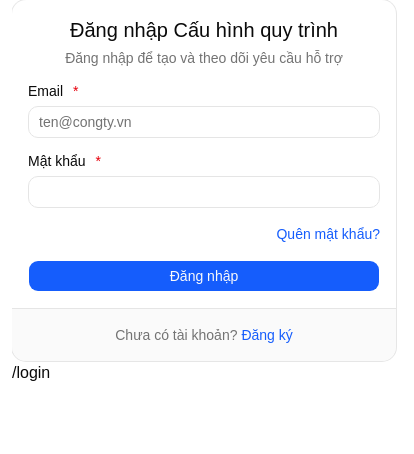
LoginPage › shows an error for wrong credentials
Type "viewer@local.dev" into the field labelled "Email" at (204, 122), box [28, 106, 380, 138]
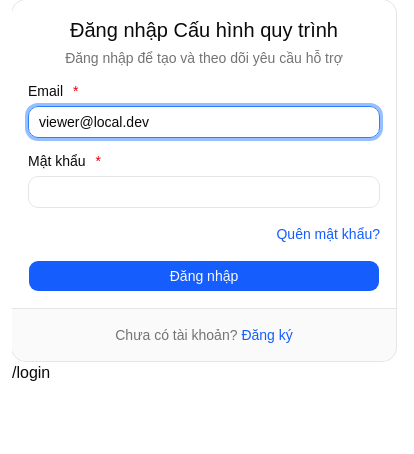
Type "Wrong@123" into the password field labelled "Mật khẩu" at (204, 192), box [28, 176, 380, 208]
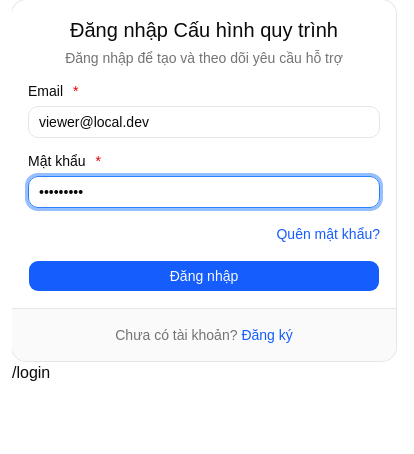
Click the button "Đăng nhập" at (204, 276), box [28, 260, 380, 292]
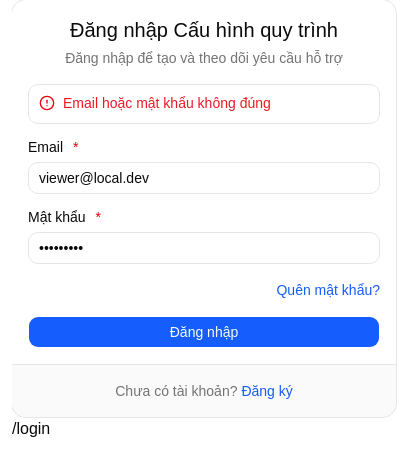
Check: the text "Email hoặc mật khẩu không đúng" is shown, box [63, 95, 271, 111]
